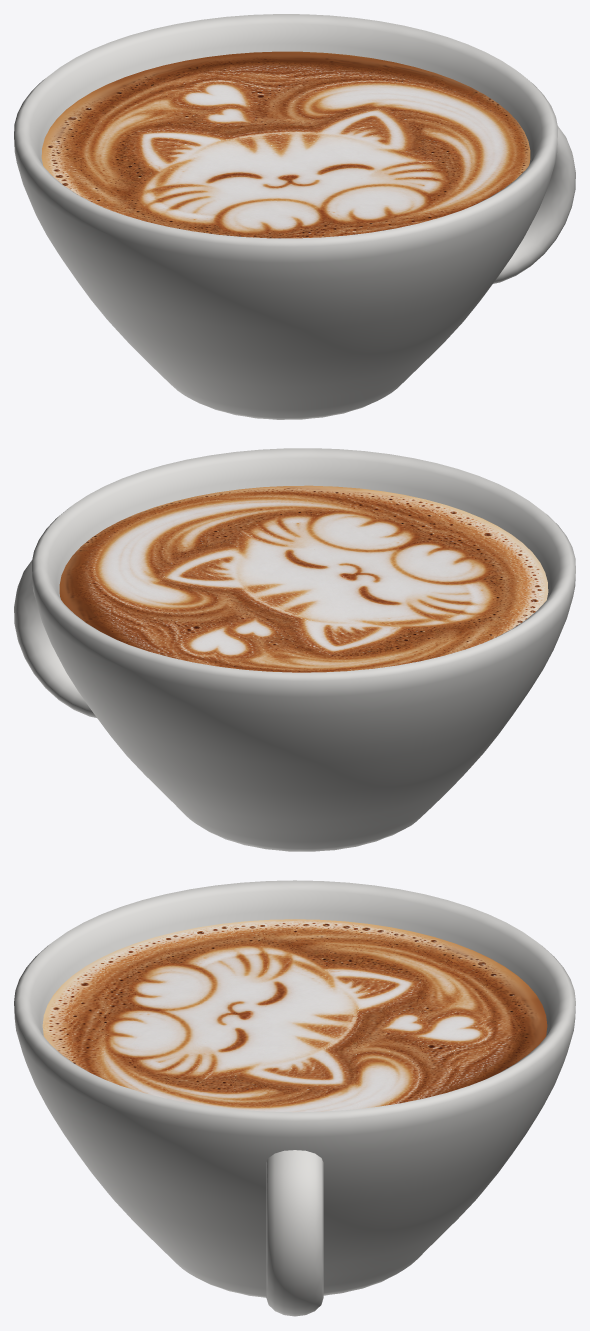
The model's file is cup_latte.fbx.
3 views of the same model, one above another, from view 1: azimuth 30°, elevation 25°; view 2: azimuth 150°, elevation 25°; view 3: azimuth 270°, elevation 25° (orthographic). The views are drawn at different scales.
Visible parts, largest first — view 1: cup, coffee, cup_a; view 2: cup, coffee, cup_a; view 3: cup, coffee, cup_a.
Part boxes in pixels (bbox=[...]): cup: bbox=[14, 14, 558, 419]; coffee: bbox=[41, 51, 530, 238]; cup_a: bbox=[493, 126, 575, 283]; cup: bbox=[31, 448, 575, 851]; coffee: bbox=[59, 485, 548, 672]; cup_a: bbox=[14, 560, 96, 717]; cup: bbox=[14, 880, 575, 1297]; coffee: bbox=[42, 919, 547, 1112]; cup_a: bbox=[266, 1150, 323, 1316].
Bounding box in the file's own units: 144 × 65.55 × 131.
2 materials, 1 textured.
